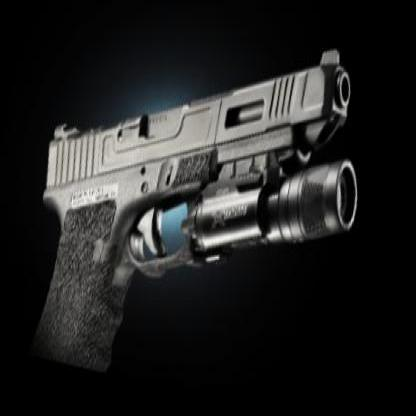pistol: (5, 0, 387, 411)
